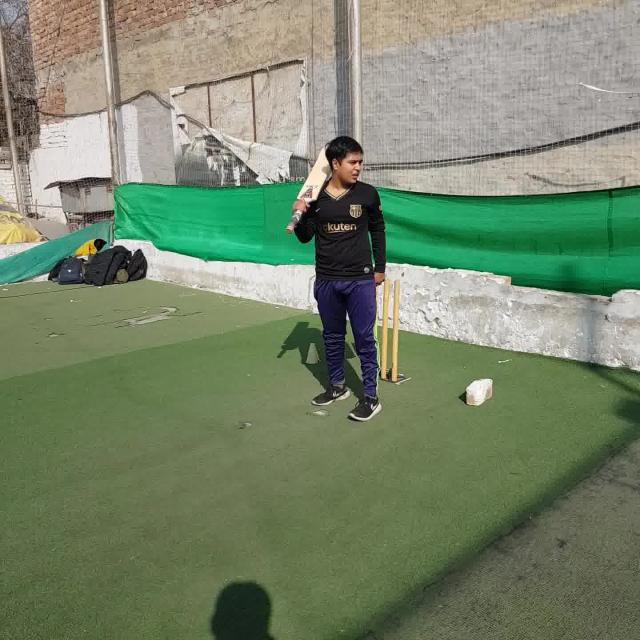bat: (285, 146, 335, 233)
